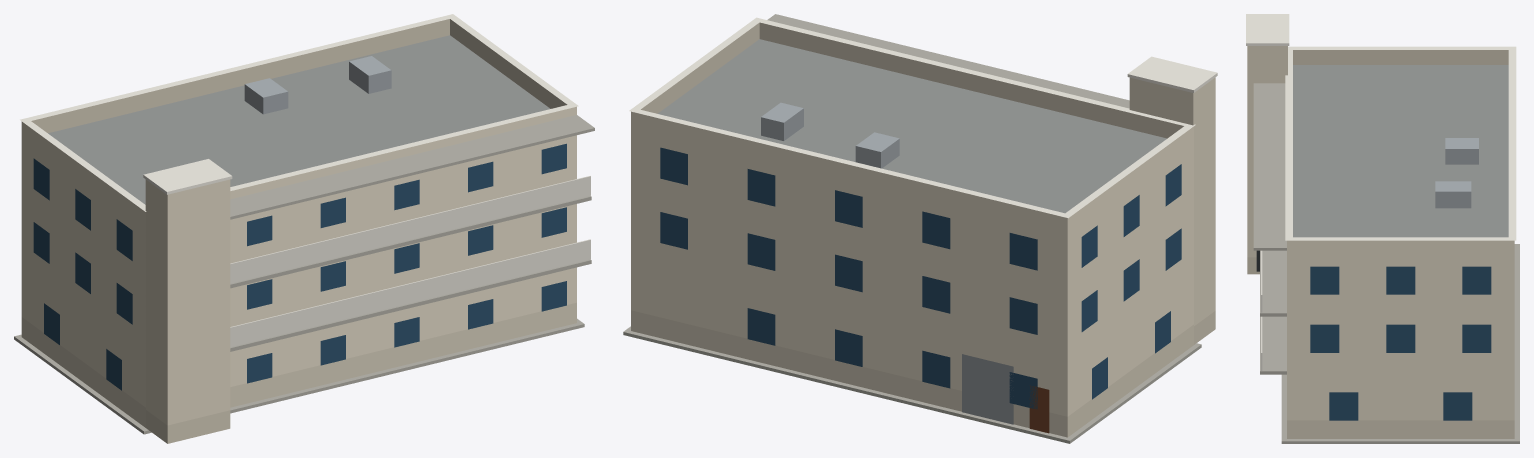
Rendered from lodge_22x11_3f_lod1.glb.
The picture shows the model from 3 angles, left to right: view 1: azimuth 30°, elevation 25°; view 2: azimuth 150°, elevation 25°; view 3: azimuth 270°, elevation 25°; orthographic projection. The views are drawn at different scales.
Parts seen in each view (by area): view 1: block; view 2: block; view 3: block.
Part boxes in pixels (x1,y1,x2,y2): block: (14, 14, 594, 443); block: (623, 14, 1217, 443); block: (1246, 14, 1519, 443).
Bounding box in the file's own units: 22.5 × 12.49 × 13.22.
